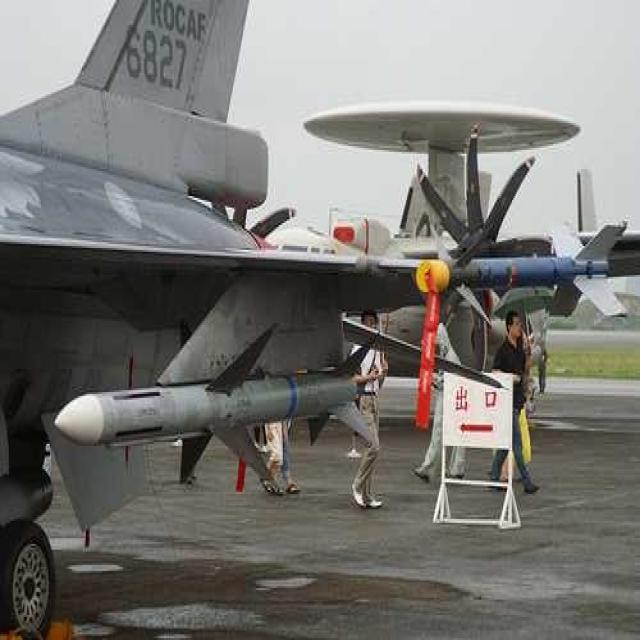missile: (56, 326, 371, 464), (418, 209, 630, 330)
